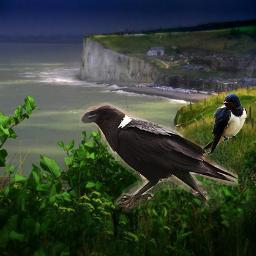Crow: (79, 102, 238, 213)
Swallow: (202, 93, 247, 156)
